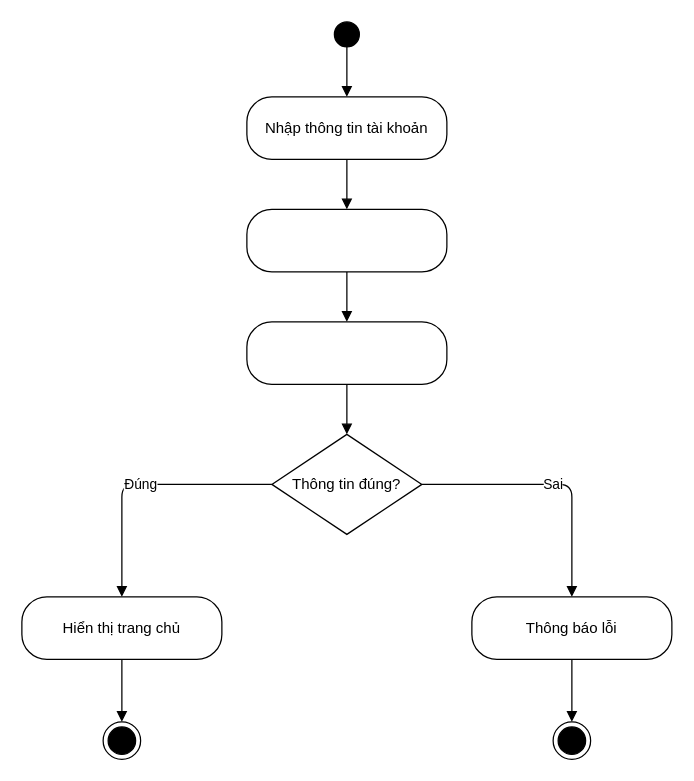
This 694x781 diagram has some shape labels left out. The shapes that lost their labels are listed below. From the top down, each one's centre as x and y in pixels, then its label:
At point (346, 240): "Bấm nút Login".
At point (346, 352): "Hệ thống kiểm tra thông tin".
